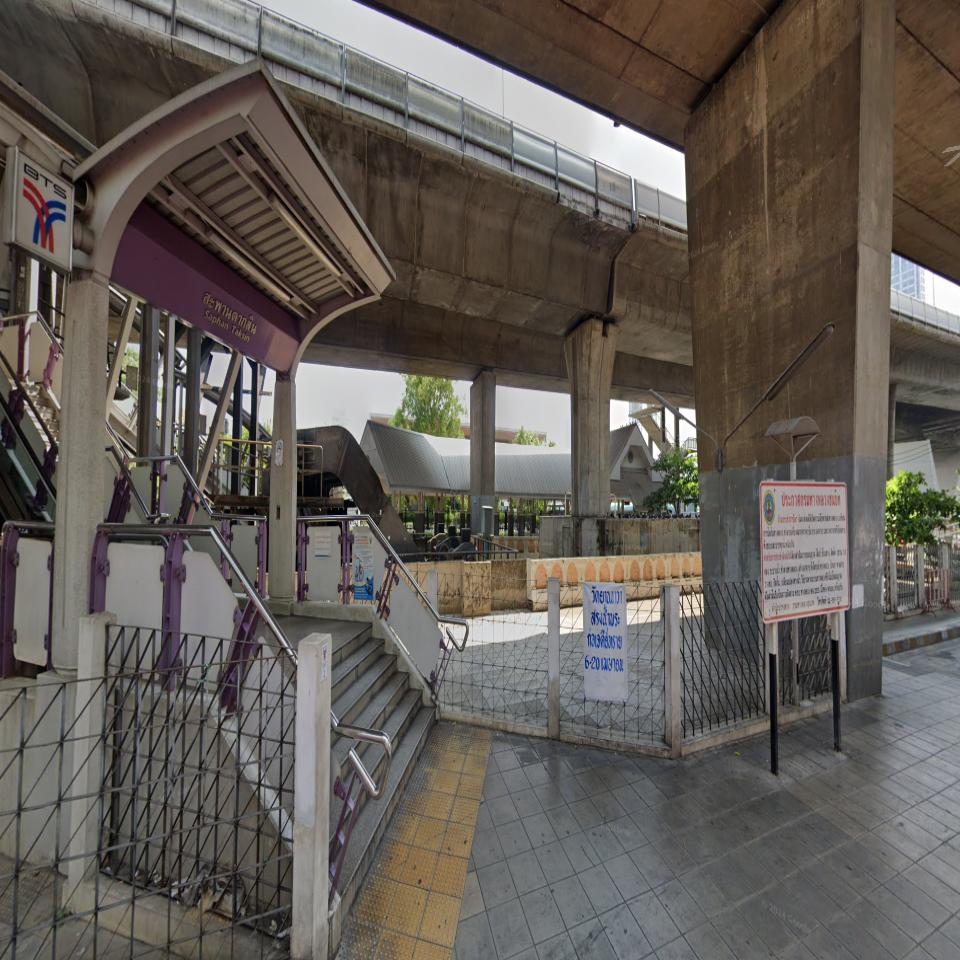Saphan Taksin: (14, 143, 300, 375), (109, 222, 300, 375)
